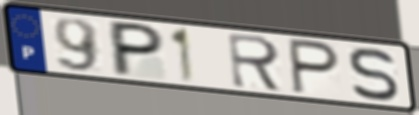1: (168, 26, 195, 86)
9: (52, 16, 104, 72)
P: (286, 36, 343, 97), (110, 19, 167, 78)
R: (225, 31, 287, 94)
S: (347, 46, 401, 103)
